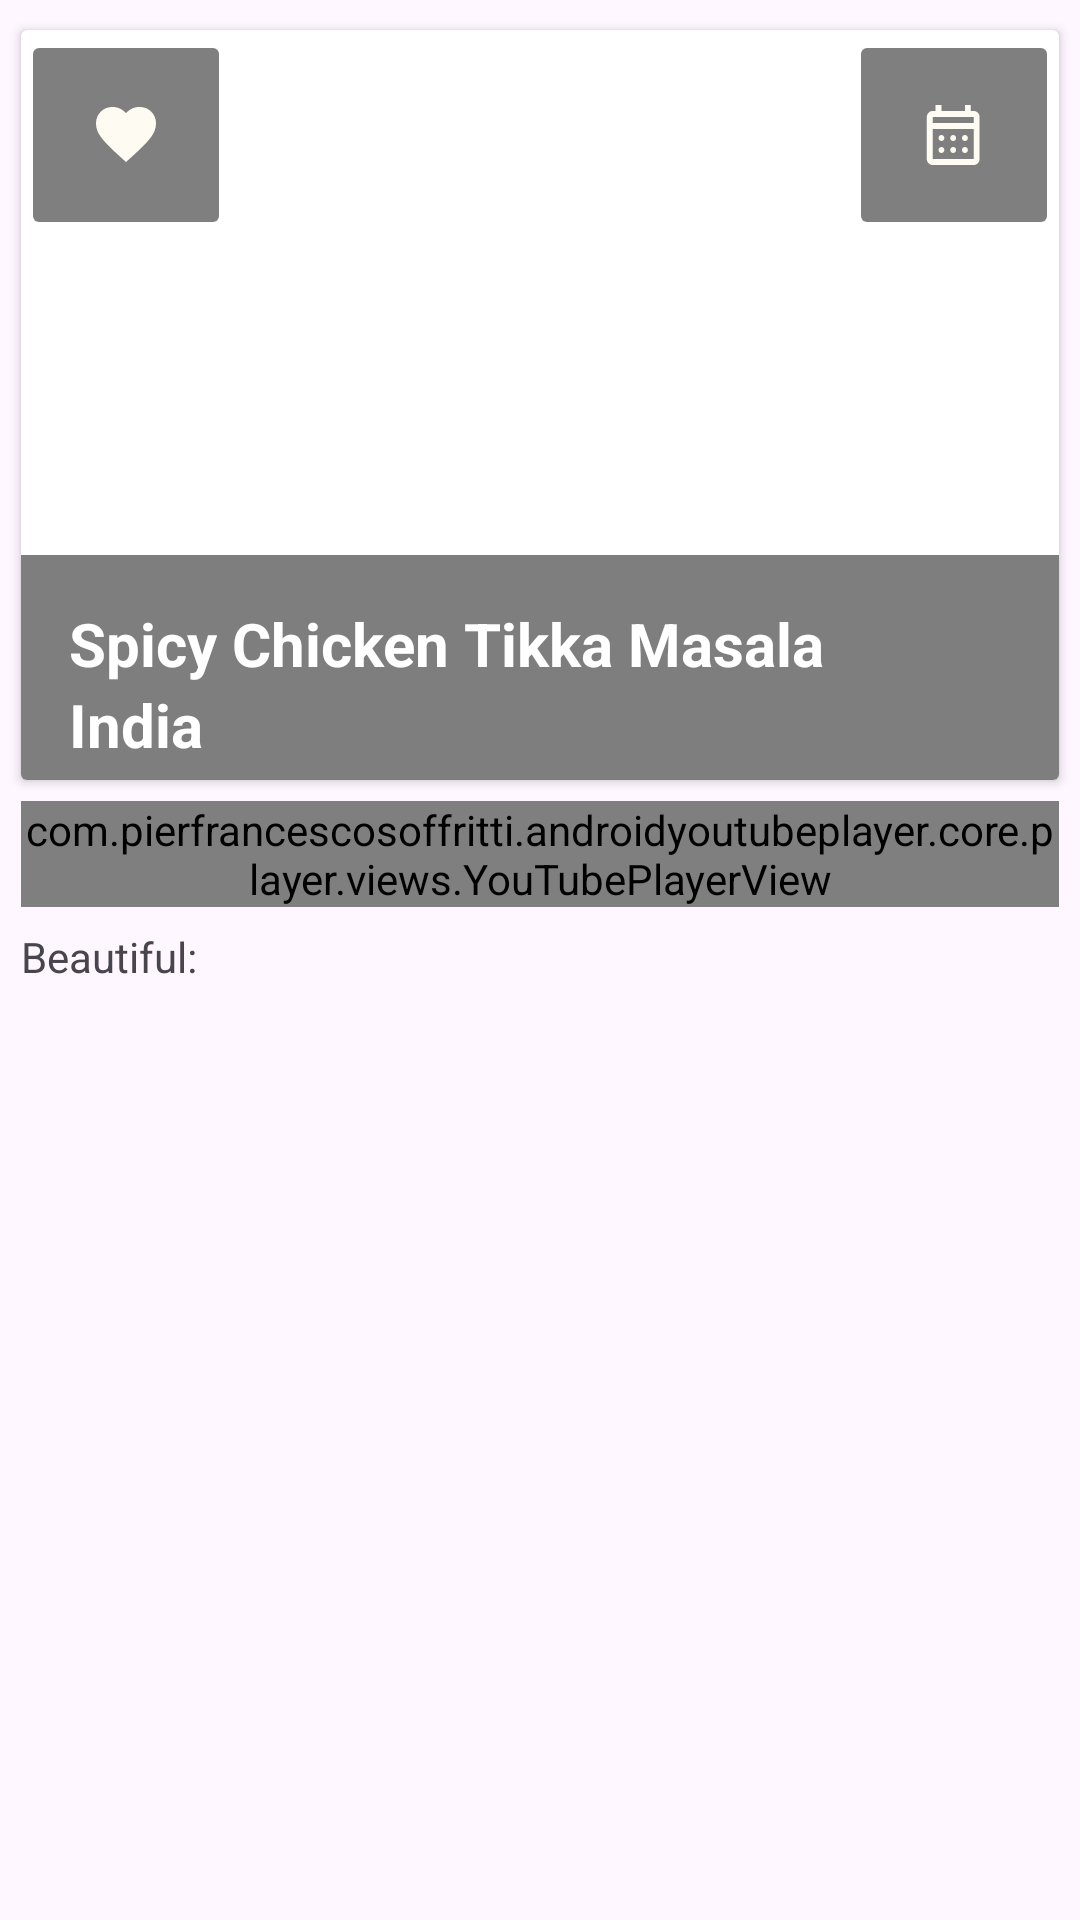

Screen size 1080 × 1920. Icon name, then its box in pixels as (x1, y1, x2, y2):
calendar month: (861, 48, 1047, 222)
favorite: (33, 48, 219, 222)
